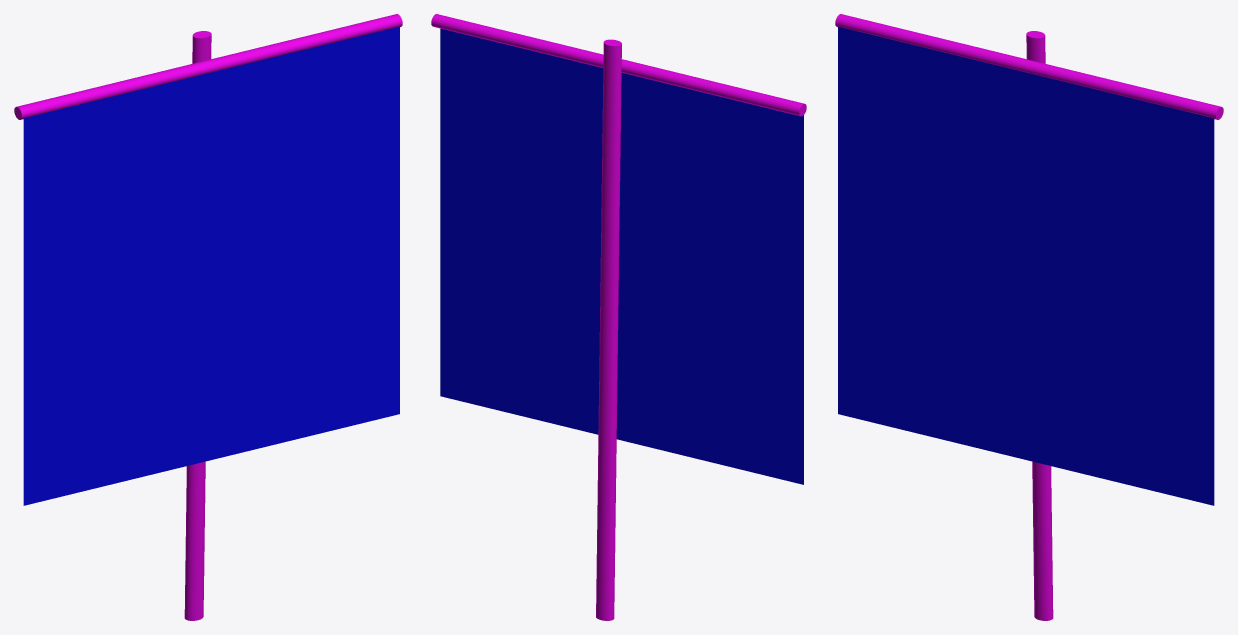
Rendered from Banner.fbx.
3 renders of one model, left to right at view 1: azimuth 30°, elevation 25°; view 2: azimuth 150°, elevation 25°; view 3: azimuth 330°, elevation 25°, orthographic. The views are drawn at different scales.
Visible parts, largest first — view 1: pPlane1, pCylinder3; view 2: pPlane1, pCylinder3; view 3: pPlane1, pCylinder3.
Boxes of the visible parts, x1,y1,x2,y2 form: pPlane1: (23,26,399,505); pCylinder3: (14,14,402,620); pPlane1: (440,28,803,484); pCylinder3: (431,14,806,620); pPlane1: (838,26,1214,505); pCylinder3: (835,14,1223,620).
Size of the model in its own units: 169 by 250 by 17.05.
